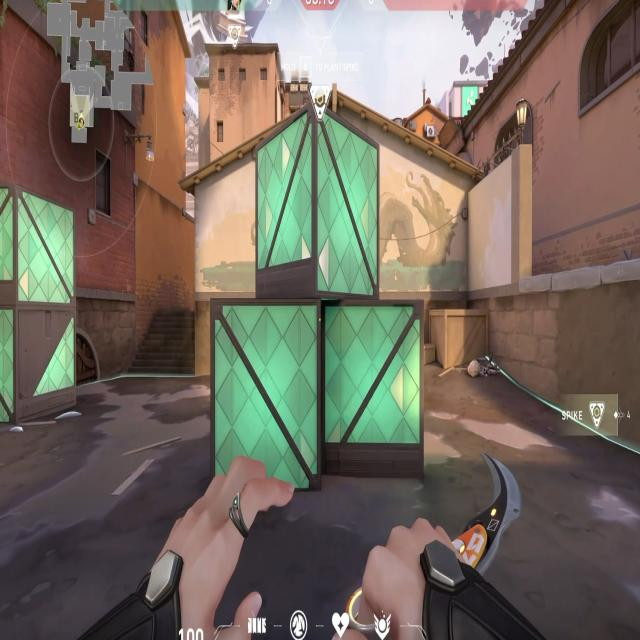B_Site_Box: (202, 104, 435, 516)
